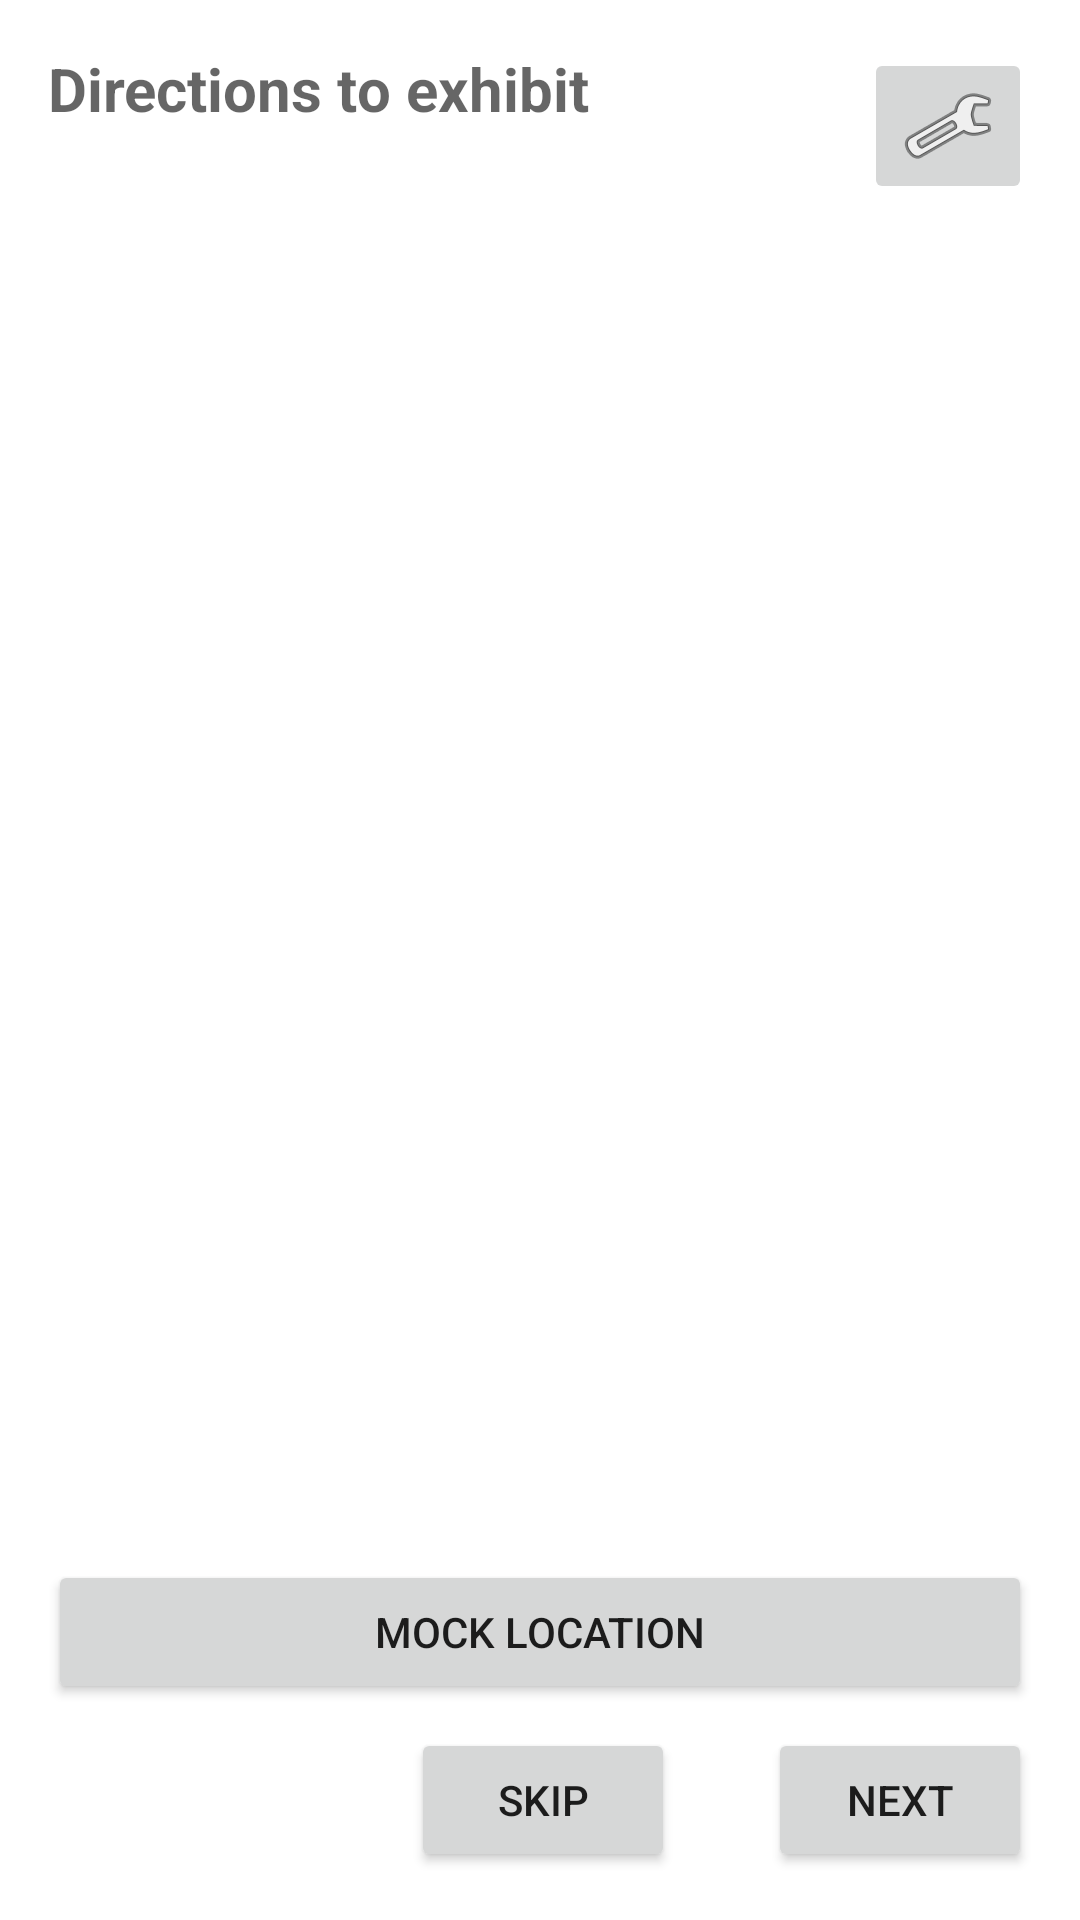

Screen size 1080 x 1920. Icon name, then its box in pixels as (x1, y1, x2, y2):
manage: (876, 66, 1020, 186)
